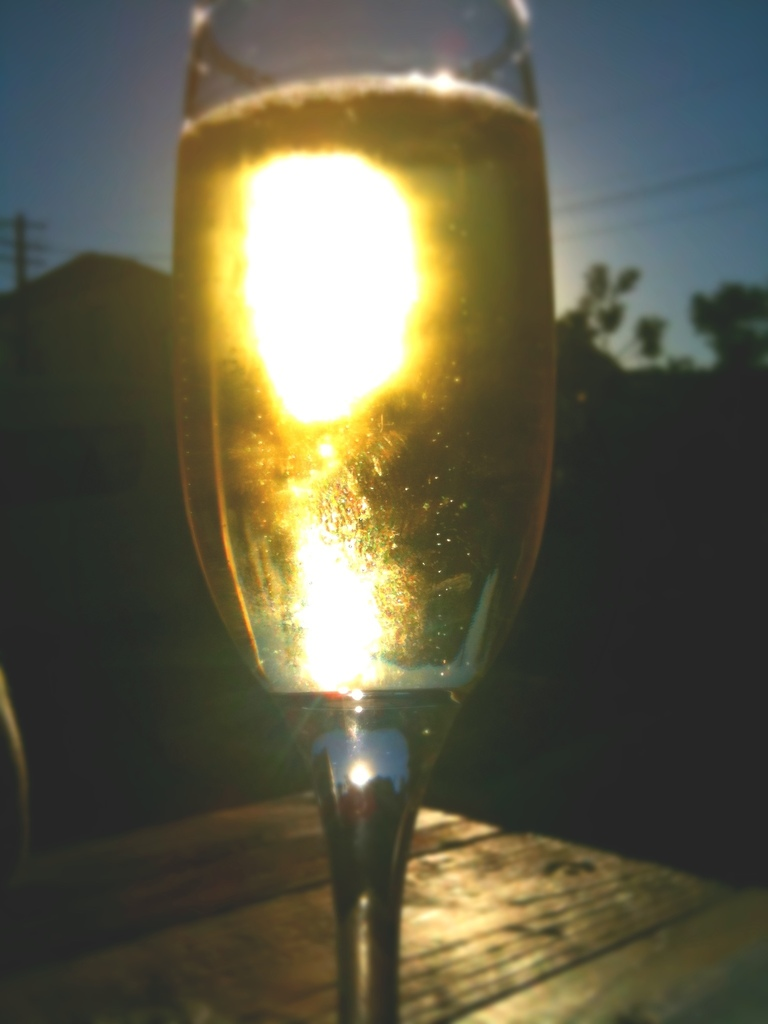Beer: (167, 0, 556, 1023)
